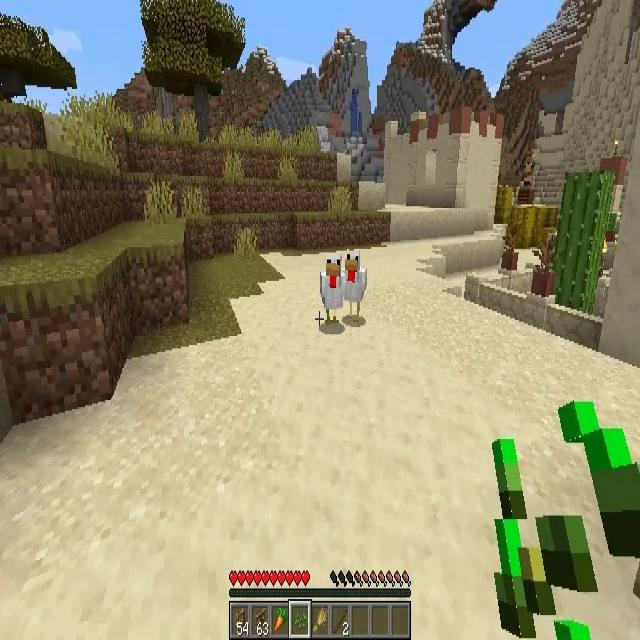duck: (319, 256, 344, 326), (344, 253, 367, 320)
